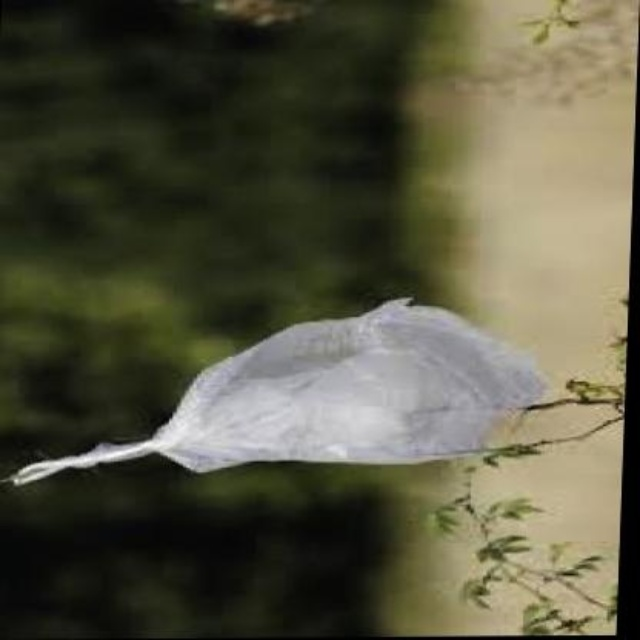trash: (11, 298, 543, 483)
